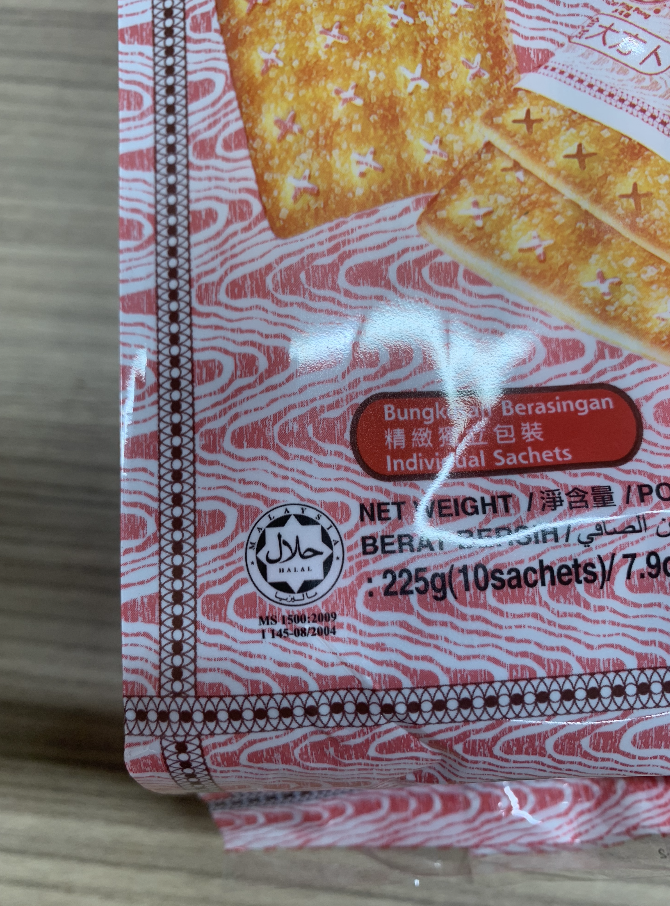halal: (259, 516, 326, 593)
